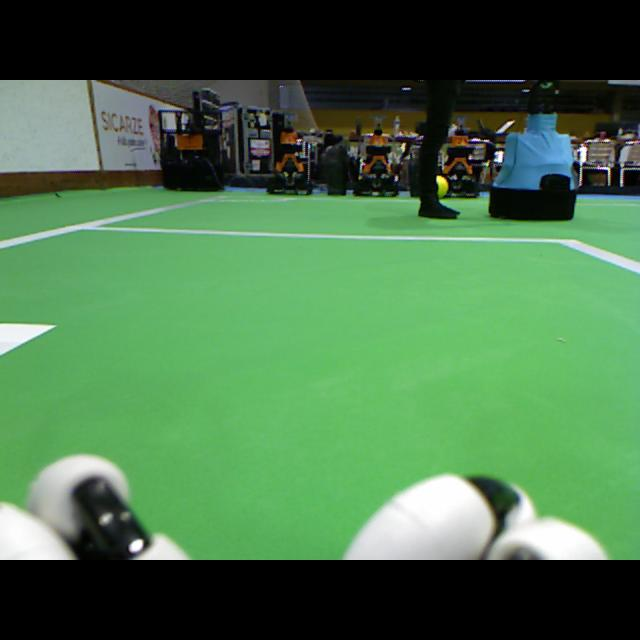ball: (436, 177, 447, 198)
robot: (161, 111, 226, 192), (269, 114, 314, 194), (356, 119, 398, 197), (442, 118, 481, 198)
